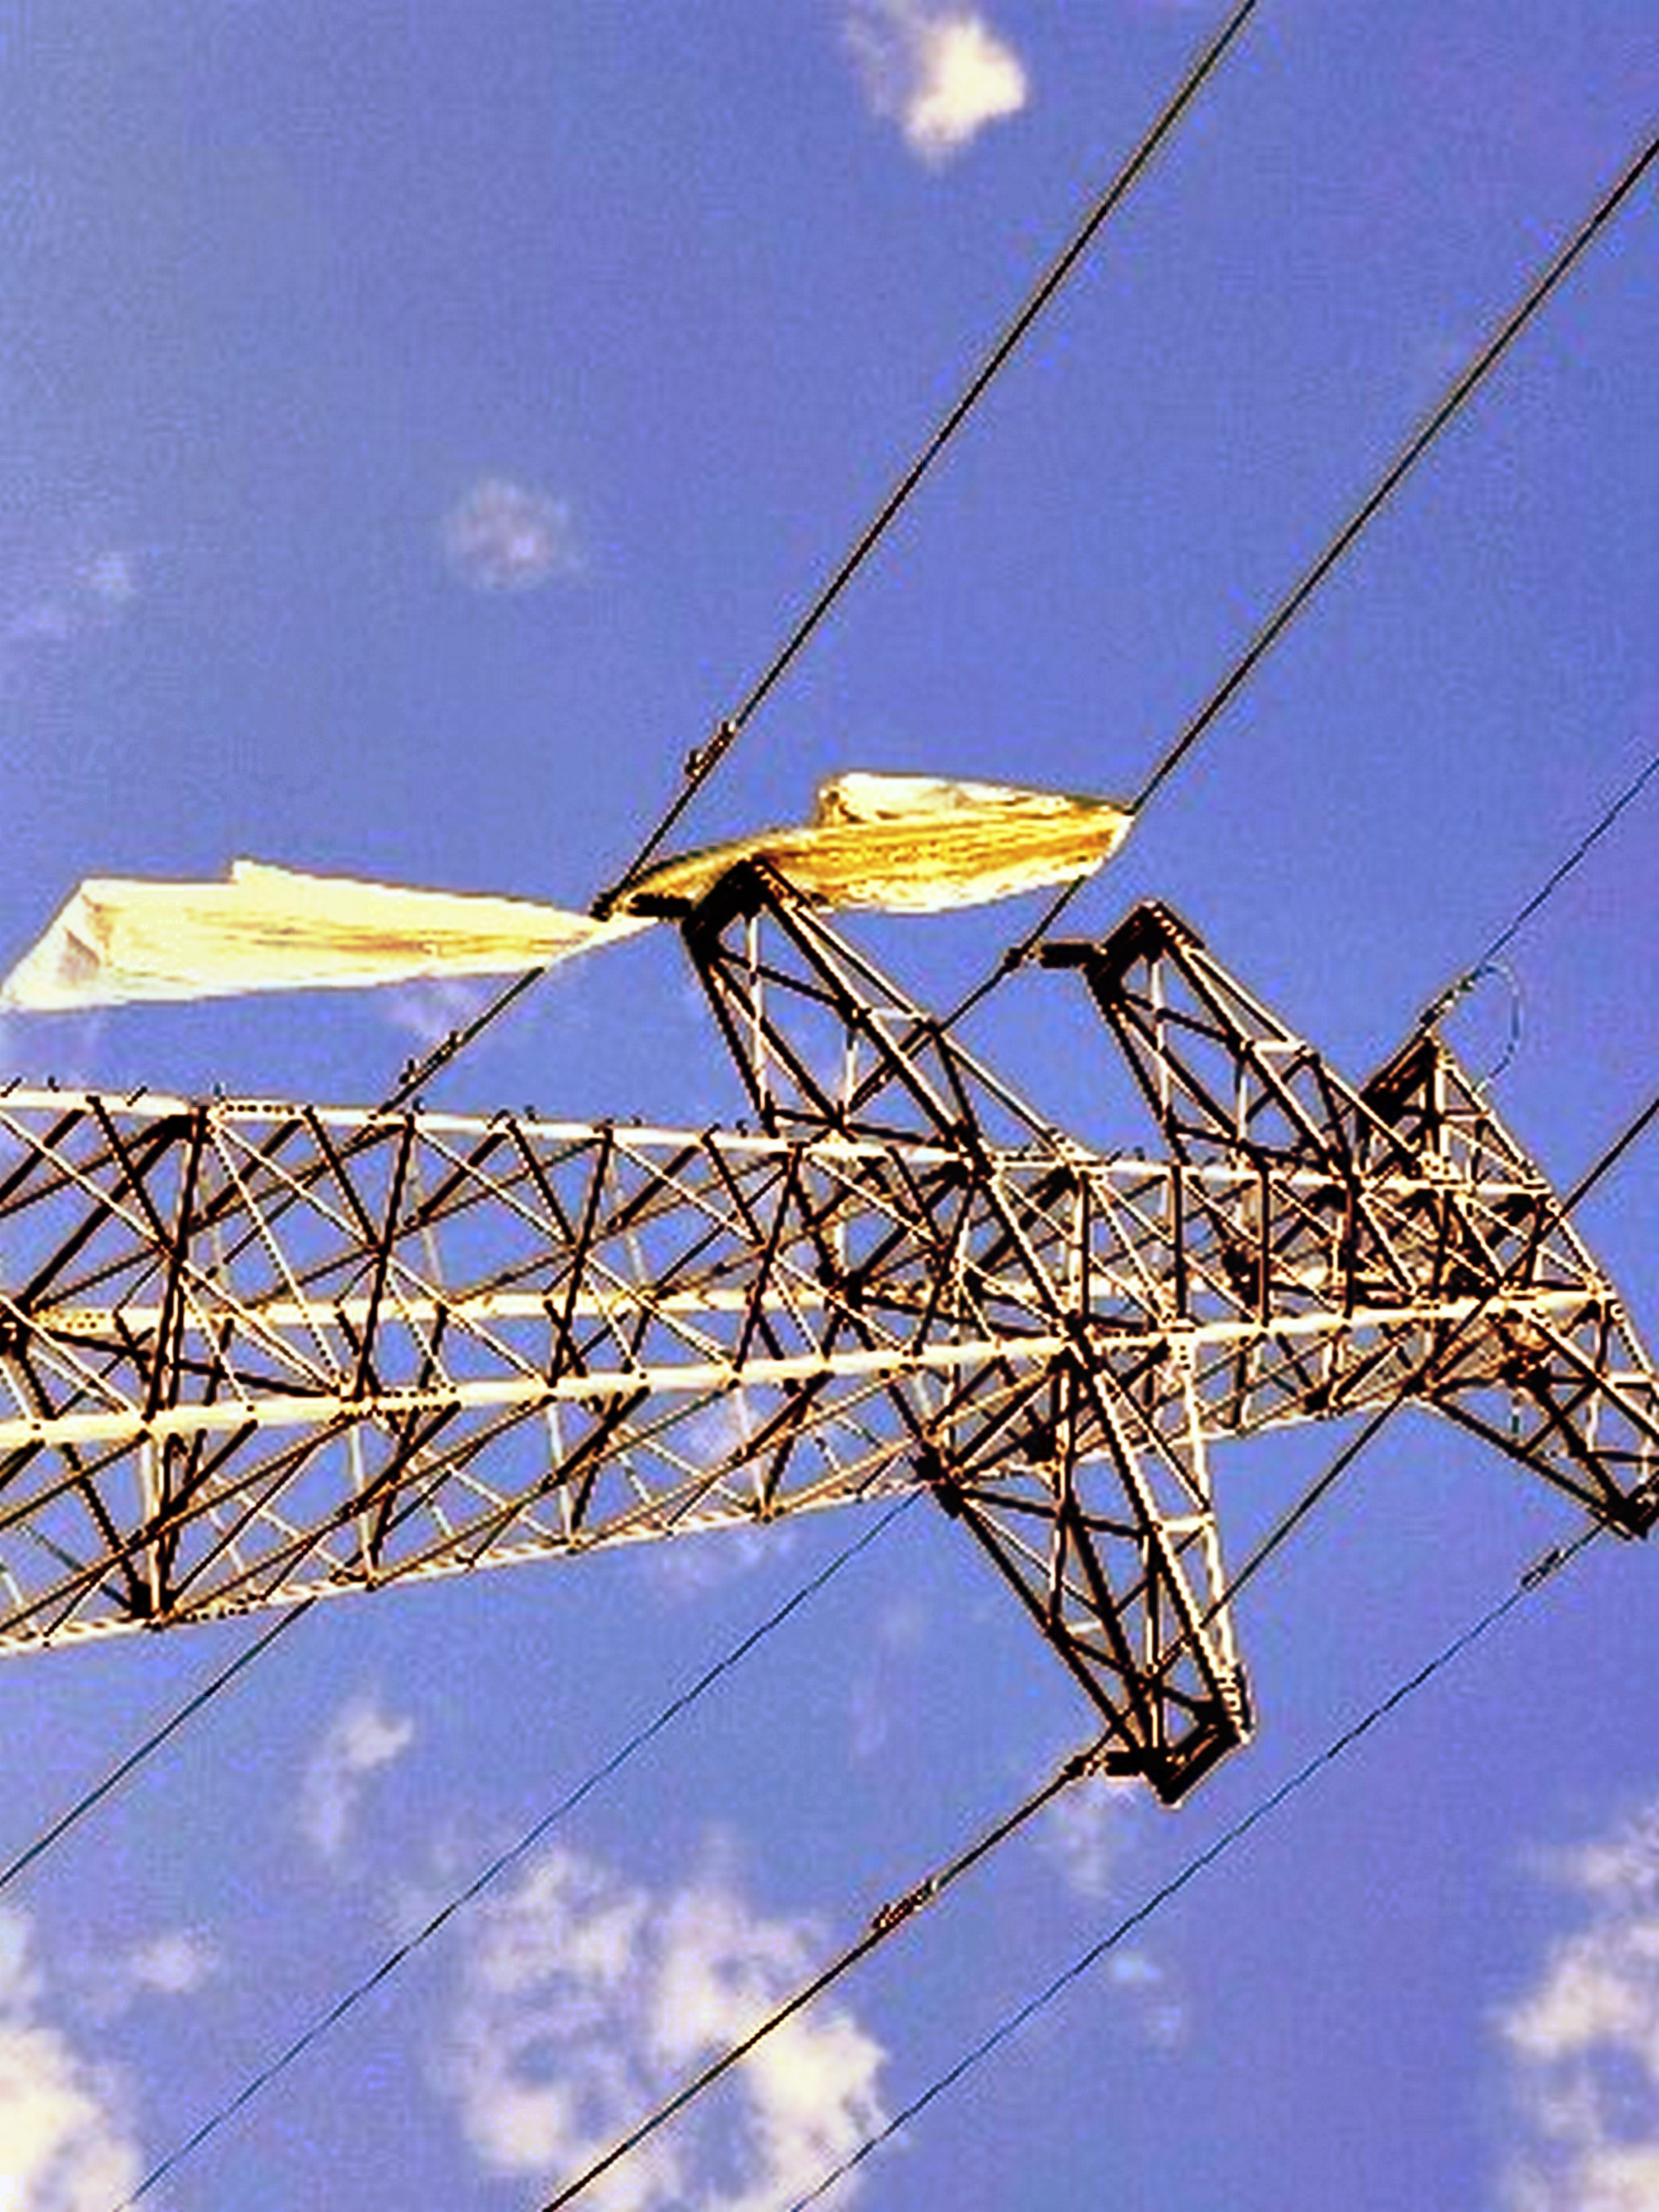wire foreign body: (33, 738, 1162, 1028)
